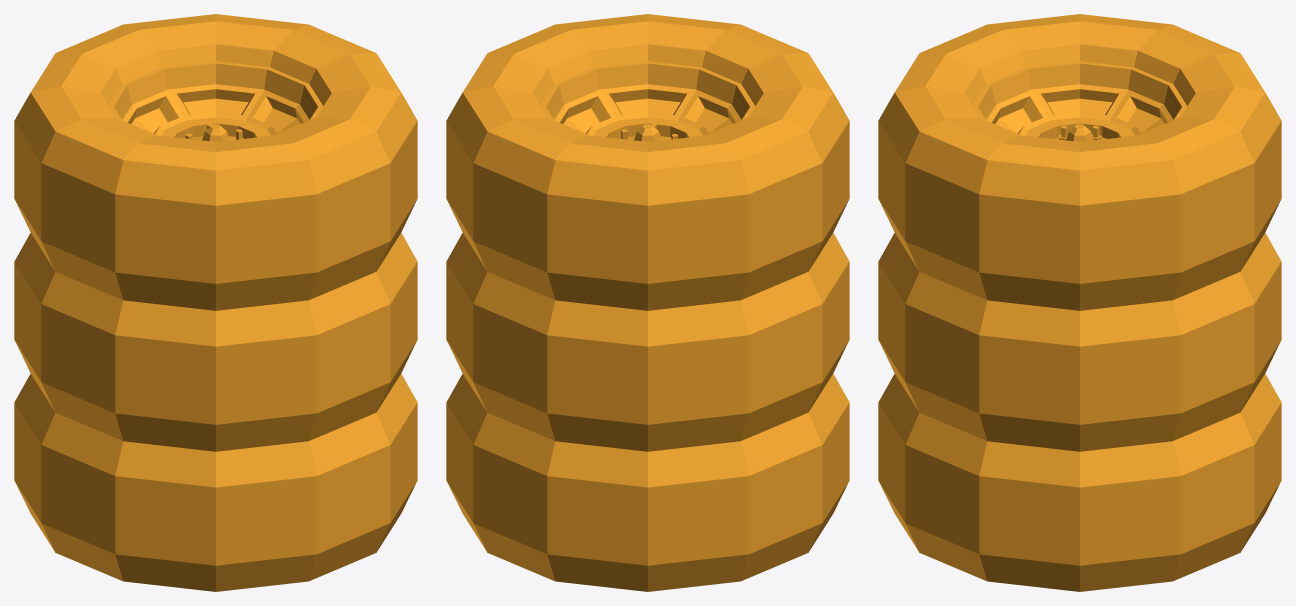
Rendered from SM_Wheel_Stack_MuscleCar.fbx.
The picture shows the model from 3 angles, left to right: view 1: azimuth 30°, elevation 25°; view 2: azimuth 150°, elevation 25°; view 3: azimuth 270°, elevation 25°; orthographic projection.
Visible parts, largest first — view 1: SM_Wheel_Stack_MuscleCar; view 2: SM_Wheel_Stack_MuscleCar; view 3: SM_Wheel_Stack_MuscleCar.
Boxes of the visible parts, <box> form: SM_Wheel_Stack_MuscleCar: <box>14,14,417,591</box>; SM_Wheel_Stack_MuscleCar: <box>446,14,849,591</box>; SM_Wheel_Stack_MuscleCar: <box>878,14,1281,591</box>.
Size of the model in its own units: 0.7571 by 0.8849 by 0.7571.
